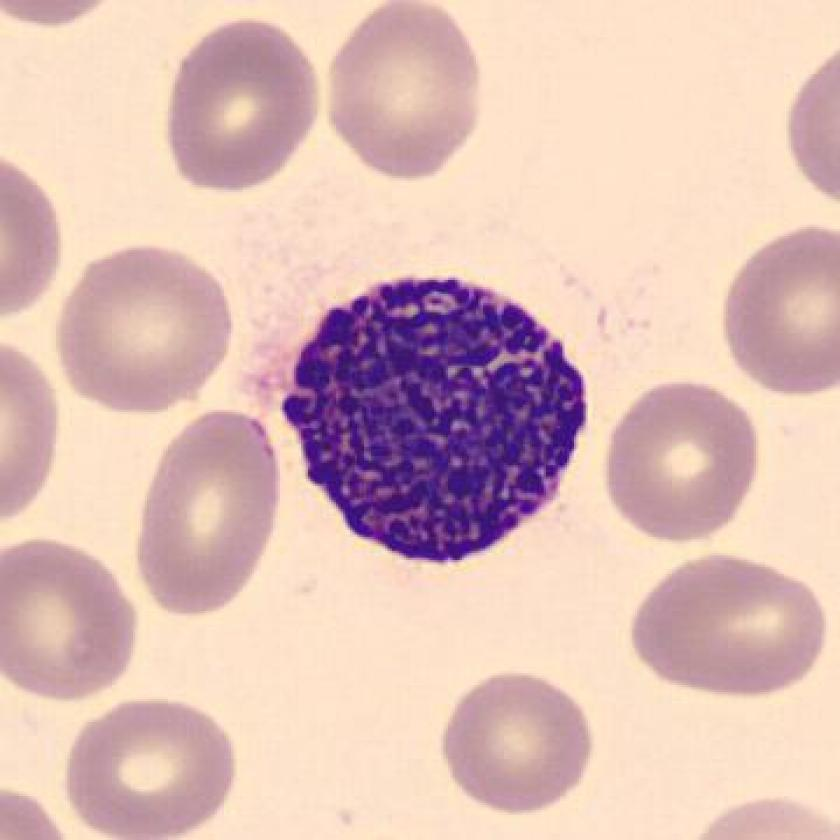basophil: (281, 270, 591, 566)
